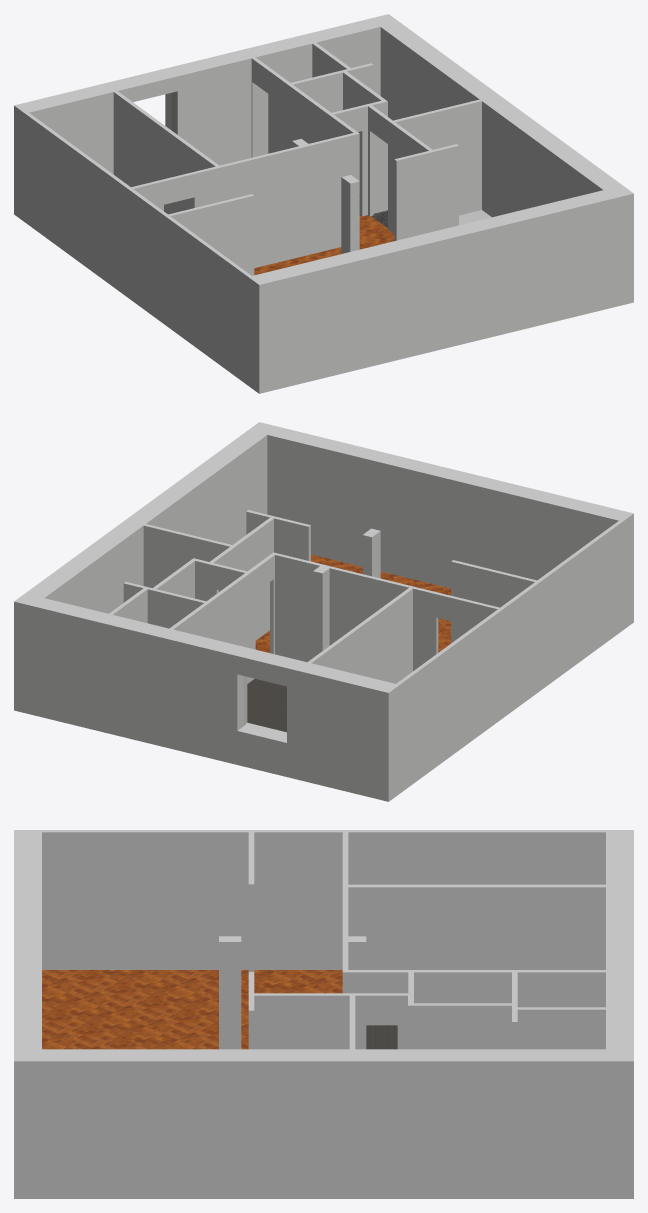
File: planimetria-casa.glb
3 views of the same model, one above another, from view 1: azimuth 30°, elevation 25°; view 2: azimuth 150°, elevation 25°; view 3: azimuth 270°, elevation 25° (orthographic). The views are drawn at different scales.
Parts seen in each view (by area): view 1: muri, pavimento-soggiorno, colonna; view 2: muri, pavimento-camera, pavimento-soggiorno, colonna; view 3: muri, pavimento-soggiorno, colonna, pavimento-camera.
Boxes of the visible parts, x1,y1,x2,y2 form: muri: (14,14,633,393); pavimento-soggiorno: (254,215,394,275); colonna: (341,175,359,253); muri: (14,422,633,801); pavimento-camera: (247,679,286,732); pavimento-soggiorno: (255,554,450,652); colonna: (362,528,380,578); muri: (14,830,633,1198); pavimento-soggiorno: (42,970,342,1049); colonna: (219,936,241,1049); pavimento-camera: (366,1025,397,1049).
Bounding box in the file's own units: 9.72 × 2.7 × 11.02.
6 materials, 4 textured.
